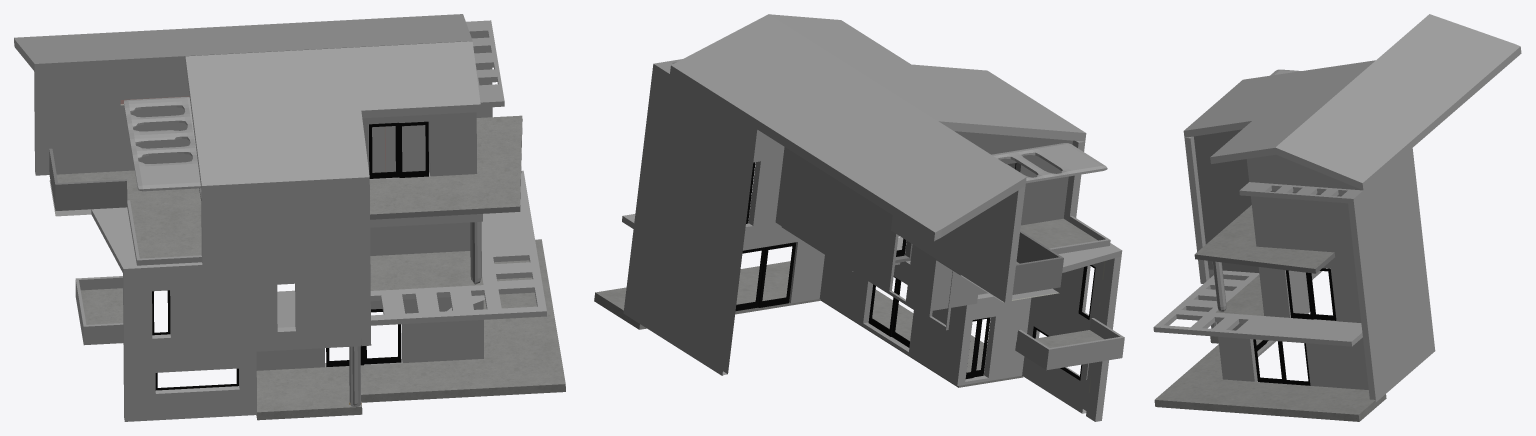
File: house.glb
3 renders of one model, left to right at view 1: azimuth 30°, elevation 25°; view 2: azimuth 150°, elevation 25°; view 3: azimuth 270°, elevation 25°, orthographic. The views are drawn at different scales.
Parts seen in each view (by area): view 1: Mesh3_3; view 2: Mesh3_3; view 3: Mesh3_3.
Part boxes in pixels (bbox=[...]): Mesh3_3: bbox=[14, 14, 565, 421]; Mesh3_3: bbox=[594, 14, 1124, 421]; Mesh3_3: bbox=[1153, 14, 1521, 421].
Bounding box in the file's own units: 18.12 × 11.01 × 14.28.
Materials: 10 (1 with a texture image).
